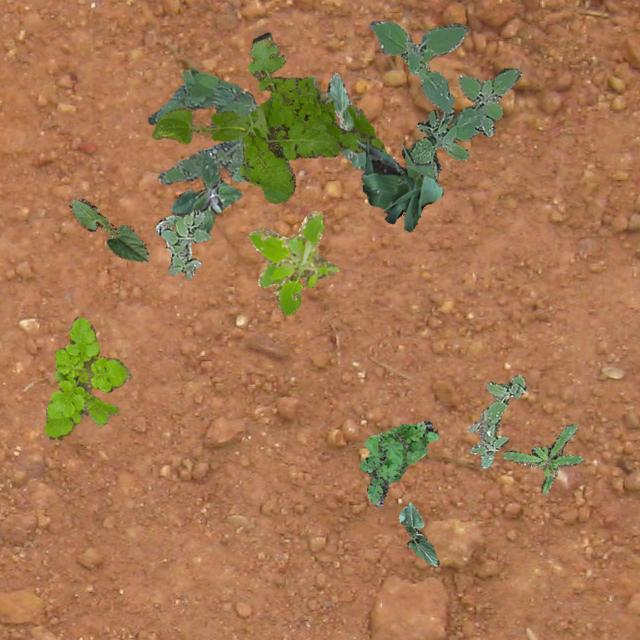crop: (356, 137, 442, 230), (68, 196, 148, 262), (326, 72, 366, 172), (150, 104, 244, 142), (398, 502, 438, 564)
weed: (238, 31, 386, 202), (368, 19, 520, 178), (148, 68, 256, 182), (44, 316, 130, 438), (246, 210, 338, 314), (358, 420, 438, 506), (500, 424, 582, 494), (170, 150, 240, 232), (466, 373, 524, 468), (154, 208, 210, 278)
